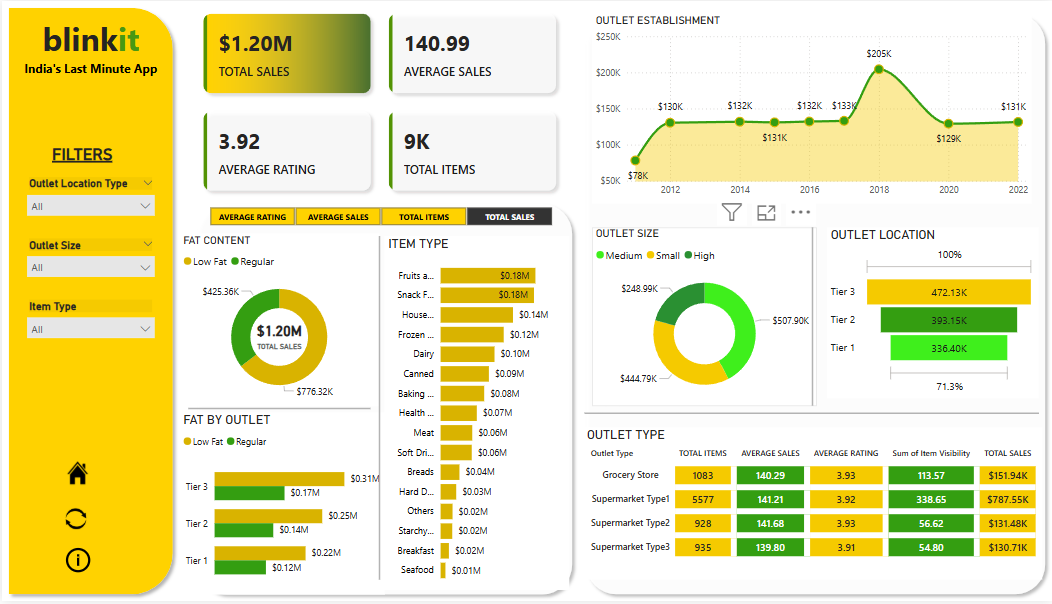

The page's visual inventory and layout, read from the dashboard file:
{"tool":"powerbi","page":{"name":"Page 1","canvas":[1400,800],"ordinal":0},"visuals":[{"type":"shape","box":[0,0,236.7,800],"z":0},{"type":"textbox","box":[36,15,163.6,78],"z":1000},{"type":"textbox","box":[12,73.5,213.1,58.5],"z":2000},{"type":"cardVisual","fields":{"Data":["BlinkIT Grocery Data.TOTAL SALES","BlinkIT Grocery Data.AVERAGE SALES","BlinkIT Grocery Data.AVERAGE RATING","BlinkIT Grocery Data.TOTAL ITEMS"]},"box":[251.7,0,505,270],"z":3000},{"type":"shape","box":[251.1,261.1,517.8,538.9],"z":4000},{"type":"slicer","fields":{"Values":["Metrics.Metrics"]},"box":[251.1,268.9,505.6,33.3],"z":5000},{"type":"donutChart","title":"FAT CONTENT","fields":{"Y":["BlinkIT Grocery Data.TOTAL SALES"],"Category":["BlinkIT Grocery Data.Item Fat Content"]},"box":[236.7,310,266.7,230],"z":6000},{"type":"clusteredBarChart","title":"FAT BY OUTLET","fields":{"Y":["BlinkIT Grocery Data.TOTAL SALES"],"Category":["BlinkIT Grocery Data.Outlet Location Type"],"Series":["BlinkIT Grocery Data.Item Fat Content"]},"box":[236.7,548.9,273.3,243.3],"z":7000},{"type":"barChart","title":"ITEM TYPE","fields":{"Y":["BlinkIT Grocery Data.TOTAL SALES"],"Category":["BlinkIT Grocery Data.Item Type"]},"box":[510,313.3,246.7,472.2],"z":8000},{"type":"card","fields":{"Values":["BlinkIT Grocery Data.TOTAL SALES"]},"box":[316.7,413.3,106.7,63.3],"z":9000},{"type":"shape","box":[425,313.3,156.7,458.3],"z":10000},{"type":"shape","box":[248,528,243,30],"z":11000},{"type":"shape","box":[770,8.3,630,791.7],"z":12000},{"type":"lineChart","title":"OUTLET ESTABLISHMENT","fields":{"Y":["BlinkIT Grocery Data.TOTAL SALES"],"Category":["BlinkIT Grocery Data.Outlet Establishment Year"]},"box":[786.7,16.7,586.7,253.3],"z":13000},{"type":"donutChart","title":"OUTLET SIZE","fields":{"Y":["BlinkIT Grocery Data.TOTAL SALES"],"Category":["BlinkIT Grocery Data.Outlet Size"]},"box":[786,302,300,238],"z":14000},{"type":"funnel","title":"OUTLET LOCATION","fields":{"Category":["BlinkIT Grocery Data.Outlet Location Type"],"Y":["Sum(BlinkIT Grocery Data.Sales)"]},"box":[1100,302,282,228],"z":15000},{"type":"shape","box":[1002,302,158,238],"z":16000},{"type":"shape","box":[776,496,606,106],"z":17000},{"type":"pivotTable","title":"OUTLET TYPE","fields":{"Rows":["BlinkIT Grocery Data.Outlet Type"],"Values":["BlinkIT Grocery Data.TOTAL ITEMS","BlinkIT Grocery Data.AVERAGE SALES","BlinkIT Grocery Data.AVERAGE RATING","Sum(BlinkIT Grocery Data.Item Visibility)","BlinkIT Grocery Data.TOTAL SALES"]},"box":[775,568.3,611.7,203.3],"z":18000},{"type":"slicer","fields":{"Values":["BlinkIT Grocery Data.Outlet Location Type"]},"box":[23.3,230,190,61.7],"z":19000},{"type":"slicer","fields":{"Values":["BlinkIT Grocery Data.Outlet Size"]},"box":[23.3,311.7,190,61.7],"z":20000},{"type":"slicer","fields":{"Values":["BlinkIT Grocery Data.Item Type"]},"box":[23.3,393.3,190,61.7],"z":21000},{"type":"actionButton","box":[80,720,51.7,51.7],"z":22000},{"type":"image","box":[71.7,598.3,58.3,61.7],"z":23000},{"type":"image","box":[75,665,50,50],"z":24000},{"type":"textbox","box":[61.7,186.7,113.3,43.3],"z":25000}]}

Visuals, with their boxes in screenshot pixels (x1, y1, x2, y2), scaled from the page's 1400x800 canvas onto the 1052x604 screenshot:
shape: <box>0,0,178,603</box>
textbox: <box>27,11,150,70</box>
textbox: <box>9,55,169,100</box>
cardVisual - BlinkIT Grocery Data.TOTAL SALES x BlinkIT Grocery Data.AVERAGE SALES: <box>189,0,569,204</box>
shape: <box>189,197,578,603</box>
slicer - Metrics.Metrics: <box>189,203,569,228</box>
"FAT CONTENT" donutChart: <box>178,234,378,408</box>
"FAT BY OUTLET" clusteredBarChart: <box>178,414,383,598</box>
"ITEM TYPE" barChart: <box>383,237,569,593</box>
card - BlinkIT Grocery Data.TOTAL SALES: <box>238,312,318,360</box>
shape: <box>319,237,437,583</box>
shape: <box>186,399,369,421</box>
shape: <box>579,6,1051,603</box>
"OUTLET ESTABLISHMENT" lineChart: <box>591,13,1032,204</box>
"OUTLET SIZE" donutChart: <box>591,228,816,408</box>
"OUTLET LOCATION" funnel: <box>827,228,1038,400</box>
shape: <box>753,228,872,408</box>
shape: <box>583,374,1038,455</box>
"OUTLET TYPE" pivotTable: <box>582,429,1042,583</box>
slicer - BlinkIT Grocery Data.Outlet Location Type: <box>18,174,160,220</box>
slicer - BlinkIT Grocery Data.Outlet Size: <box>18,235,160,282</box>
slicer - BlinkIT Grocery Data.Item Type: <box>18,297,160,344</box>
actionButton: <box>60,544,99,583</box>
image: <box>54,452,98,498</box>
image: <box>56,502,94,540</box>
textbox: <box>46,141,132,174</box>
